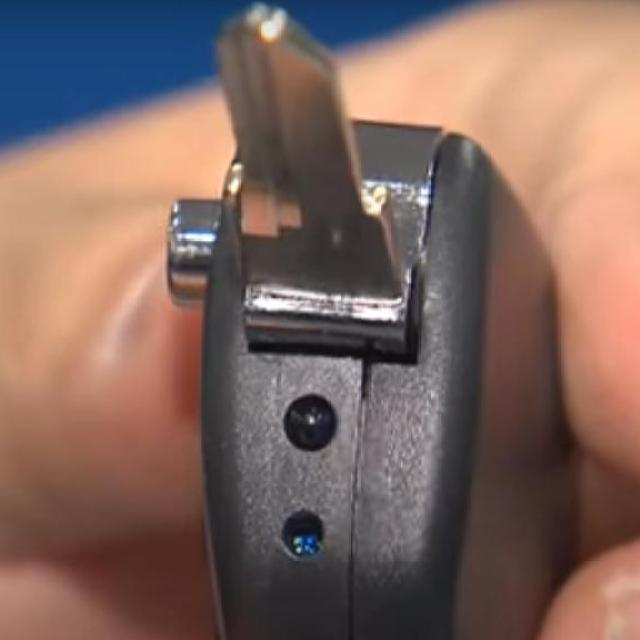hidden camera: (280, 388, 339, 457)
